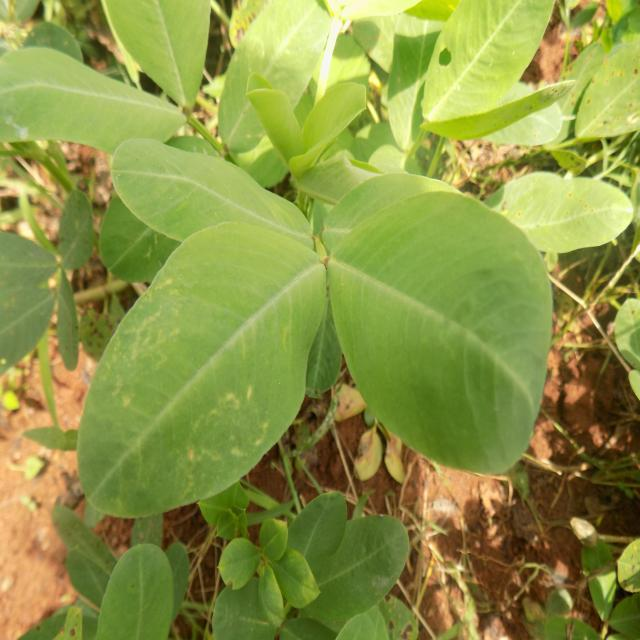Ground nut_healthy: (80, 218, 321, 524), (327, 199, 548, 478), (108, 134, 306, 260)
